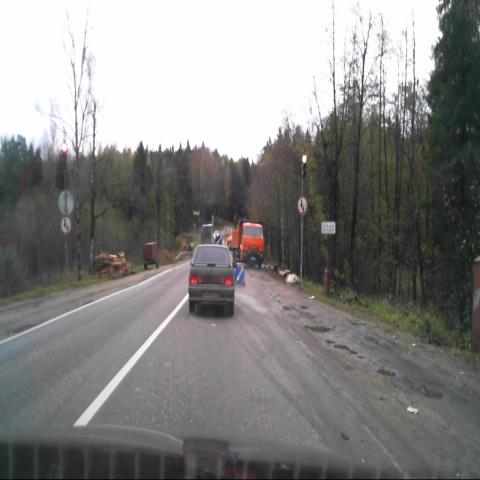2_6: (296, 195, 308, 216)
